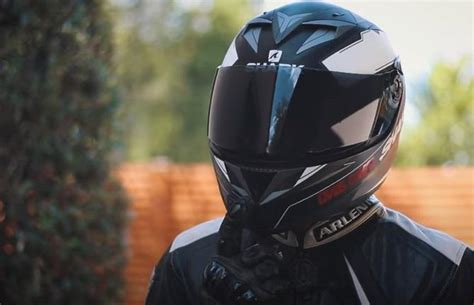com_capacete: (206, 1, 406, 236)
